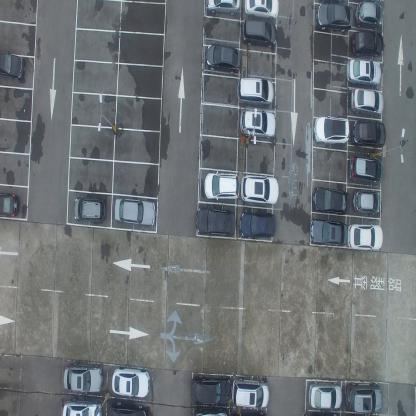car: (114, 196, 156, 228), (191, 373, 231, 406), (63, 362, 103, 394), (194, 208, 236, 238), (346, 380, 383, 414), (112, 365, 150, 398), (241, 173, 278, 206), (232, 377, 269, 409), (203, 171, 240, 202), (236, 75, 274, 105), (316, 3, 354, 33), (205, 43, 241, 74), (242, 18, 277, 49), (239, 109, 275, 139), (348, 154, 384, 184), (313, 186, 350, 215), (239, 209, 275, 238), (346, 57, 382, 86), (310, 218, 348, 245), (313, 116, 349, 144), (347, 223, 384, 250), (308, 379, 342, 408), (351, 88, 384, 117), (352, 119, 385, 148), (72, 196, 106, 222), (352, 30, 384, 57), (0, 50, 26, 83), (355, 1, 383, 28), (353, 187, 381, 214), (60, 398, 102, 416), (245, 0, 279, 20), (206, 0, 240, 19), (107, 401, 147, 415), (0, 192, 20, 218)
